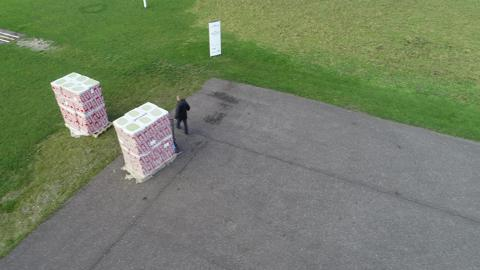RockwoolPallet: (50, 70, 111, 139)
